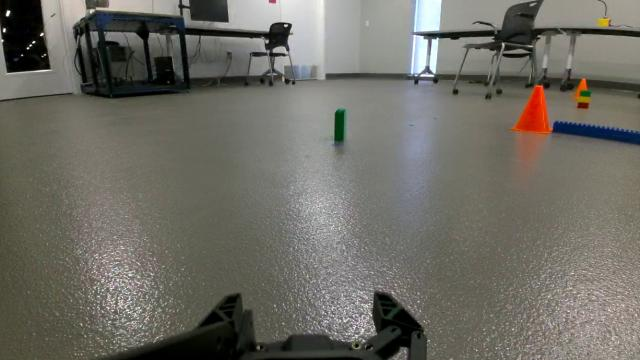lego: (322, 99, 362, 152)
